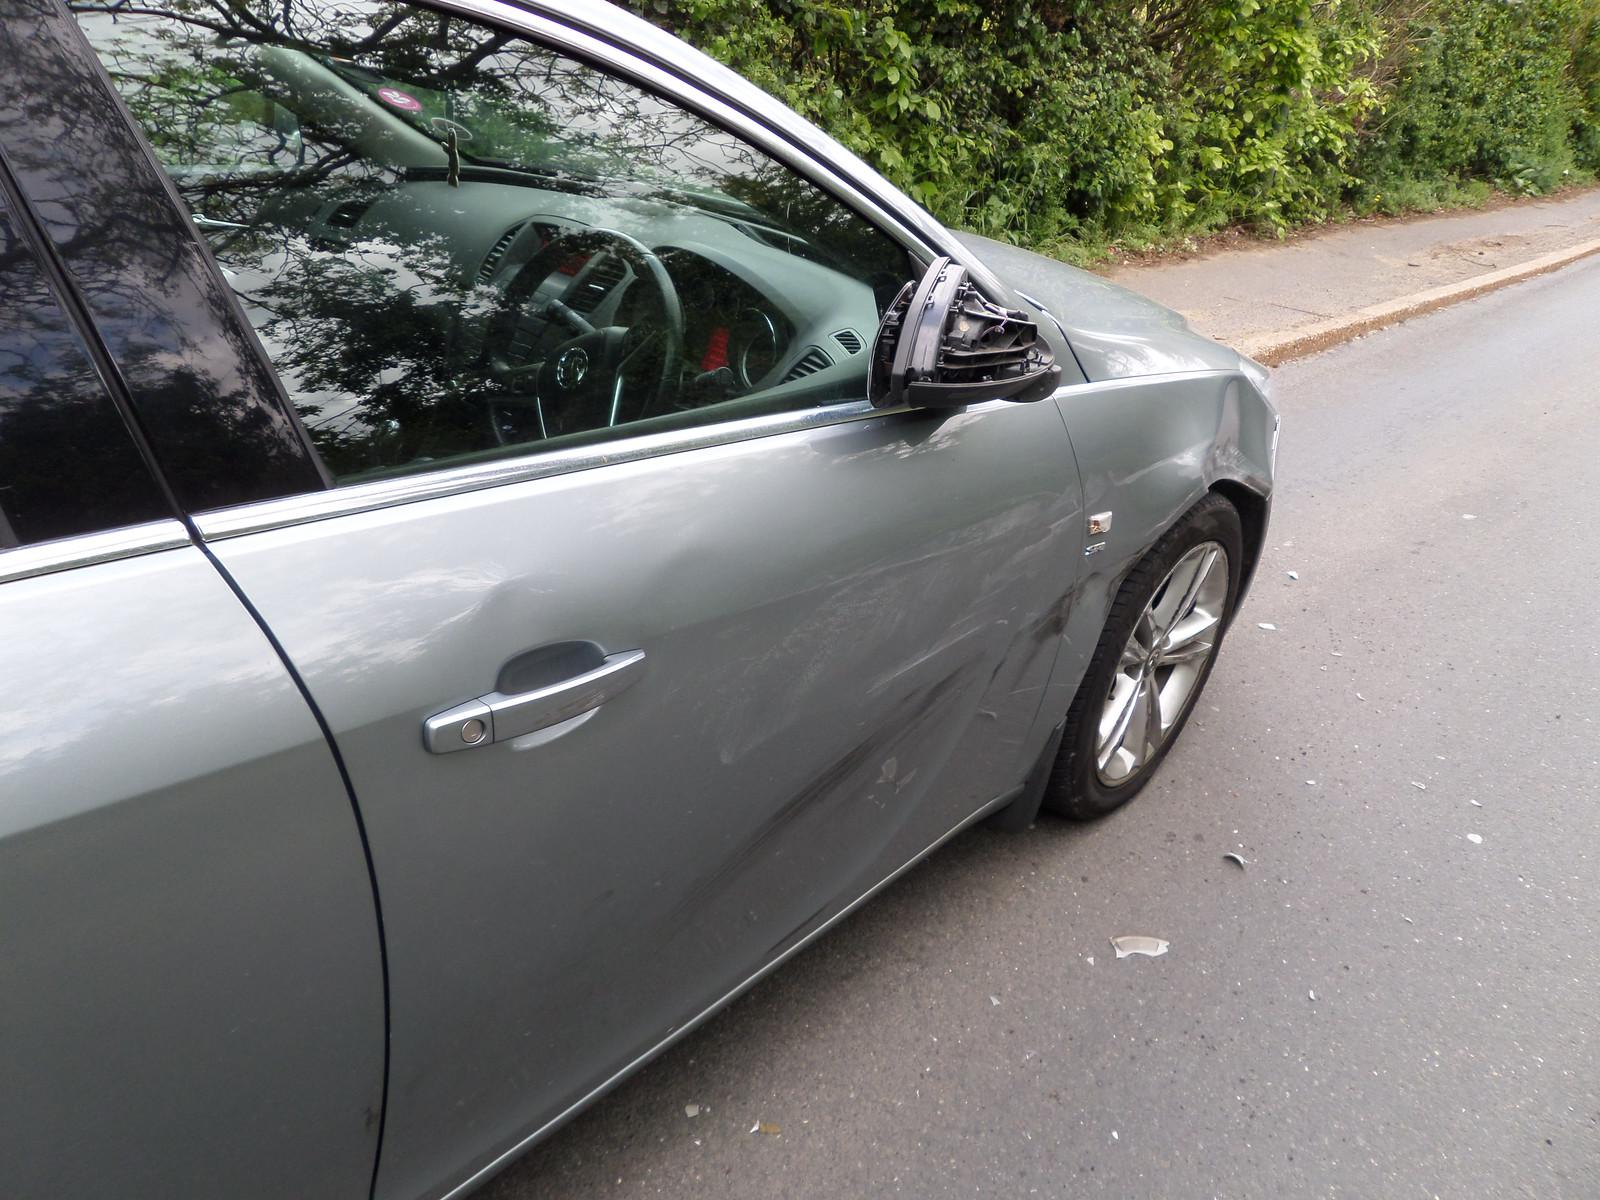fender-dent: (1020, 359, 1300, 586)
